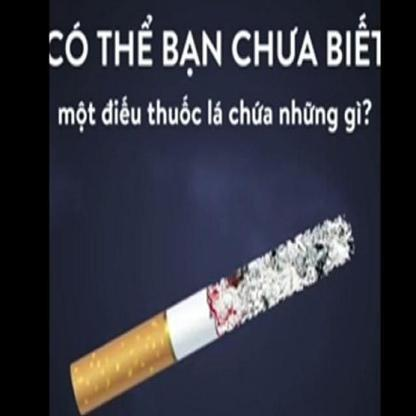trash: (63, 216, 362, 414)
